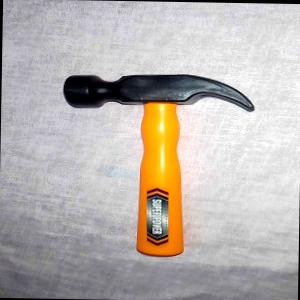martelo: (60, 70, 257, 257)
